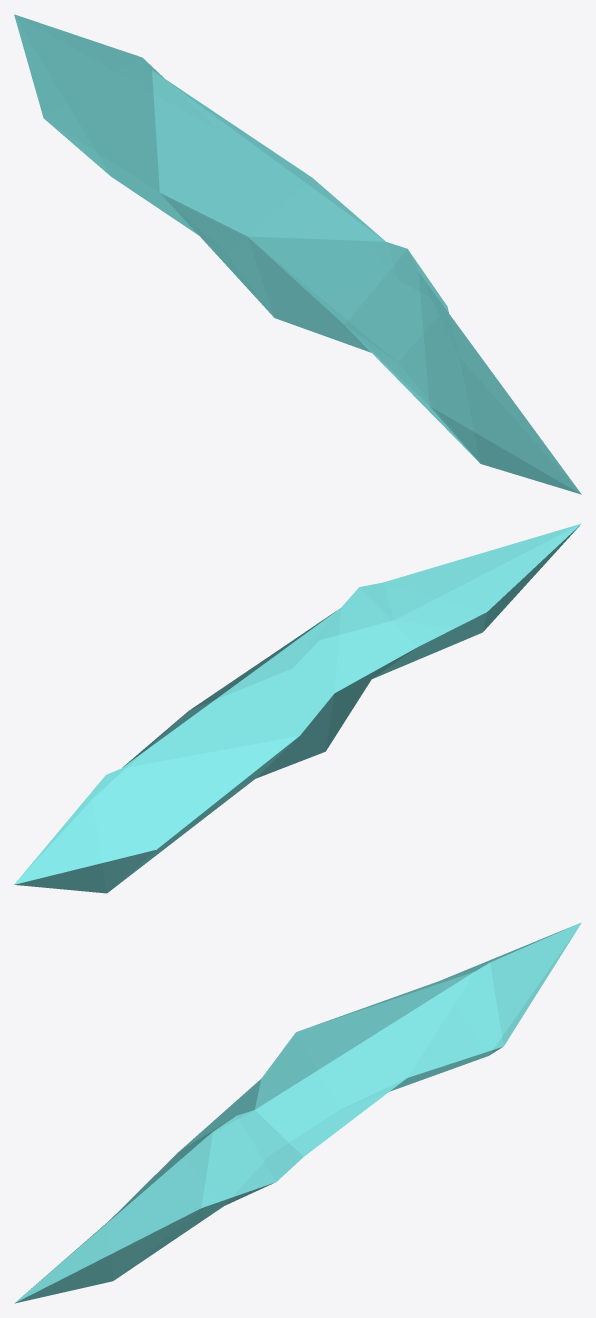
The model's file is Icicle_A.fbx.
3 renders of one model, top to bottom at view 1: azimuth 30°, elevation 25°; view 2: azimuth 150°, elevation 25°; view 3: azimuth 330°, elevation 25°, orthographic. The views are drawn at different scales.
Visible parts, largest first — view 1: Icicle_A; view 2: Icicle_A; view 3: Icicle_A.
Boxes of the visible parts, left/top/right/bottom form: Icicle_A: left=14, top=14, right=581, bottom=494; Icicle_A: left=14, top=523, right=581, bottom=893; Icicle_A: left=14, top=922, right=581, bottom=1303.
Bounding box in the file's own units: 0.436 × 3.02 × 0.3936.
